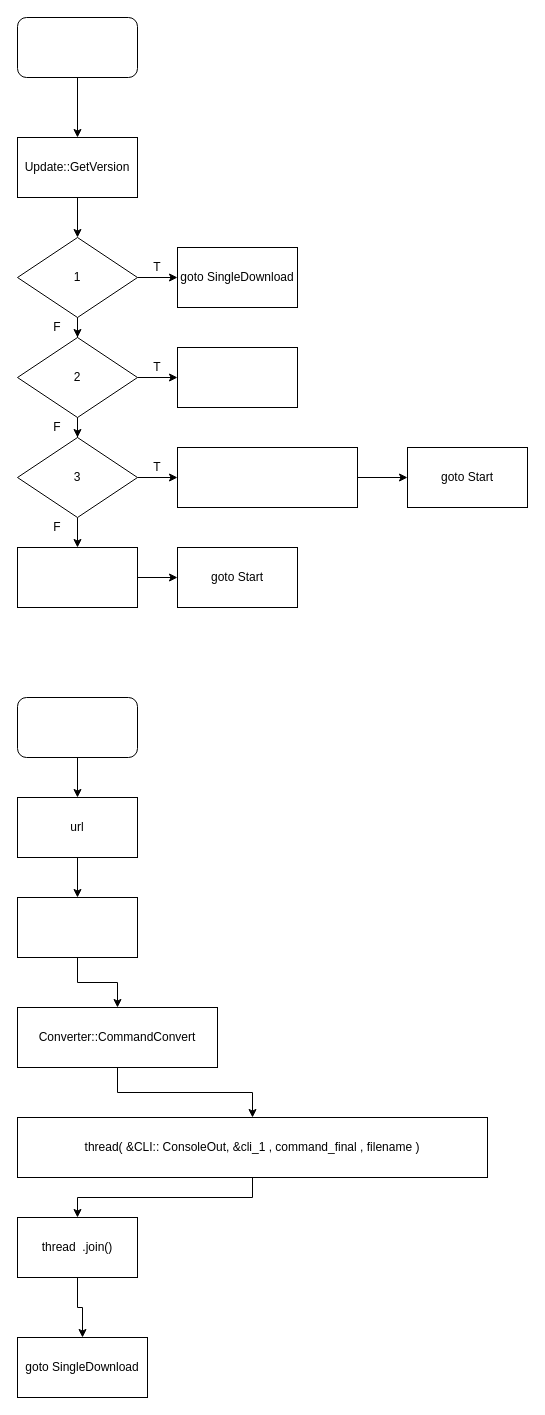
The diagram is 545 pixels wide and 1415 high, and some of its shapes have lost their labels. The centre of each missing label's shape, as x and y in pixels:
"default" belongs at [77,577].
"goto ReadFromTxt" belongs at [237,377].
"name" belongs at [77,927].
"SingleDownload" belongs at [77,727].
"Start" belongs at [77,47].
"Update::UpdateYoutube_dl" belongs at [267,477].
